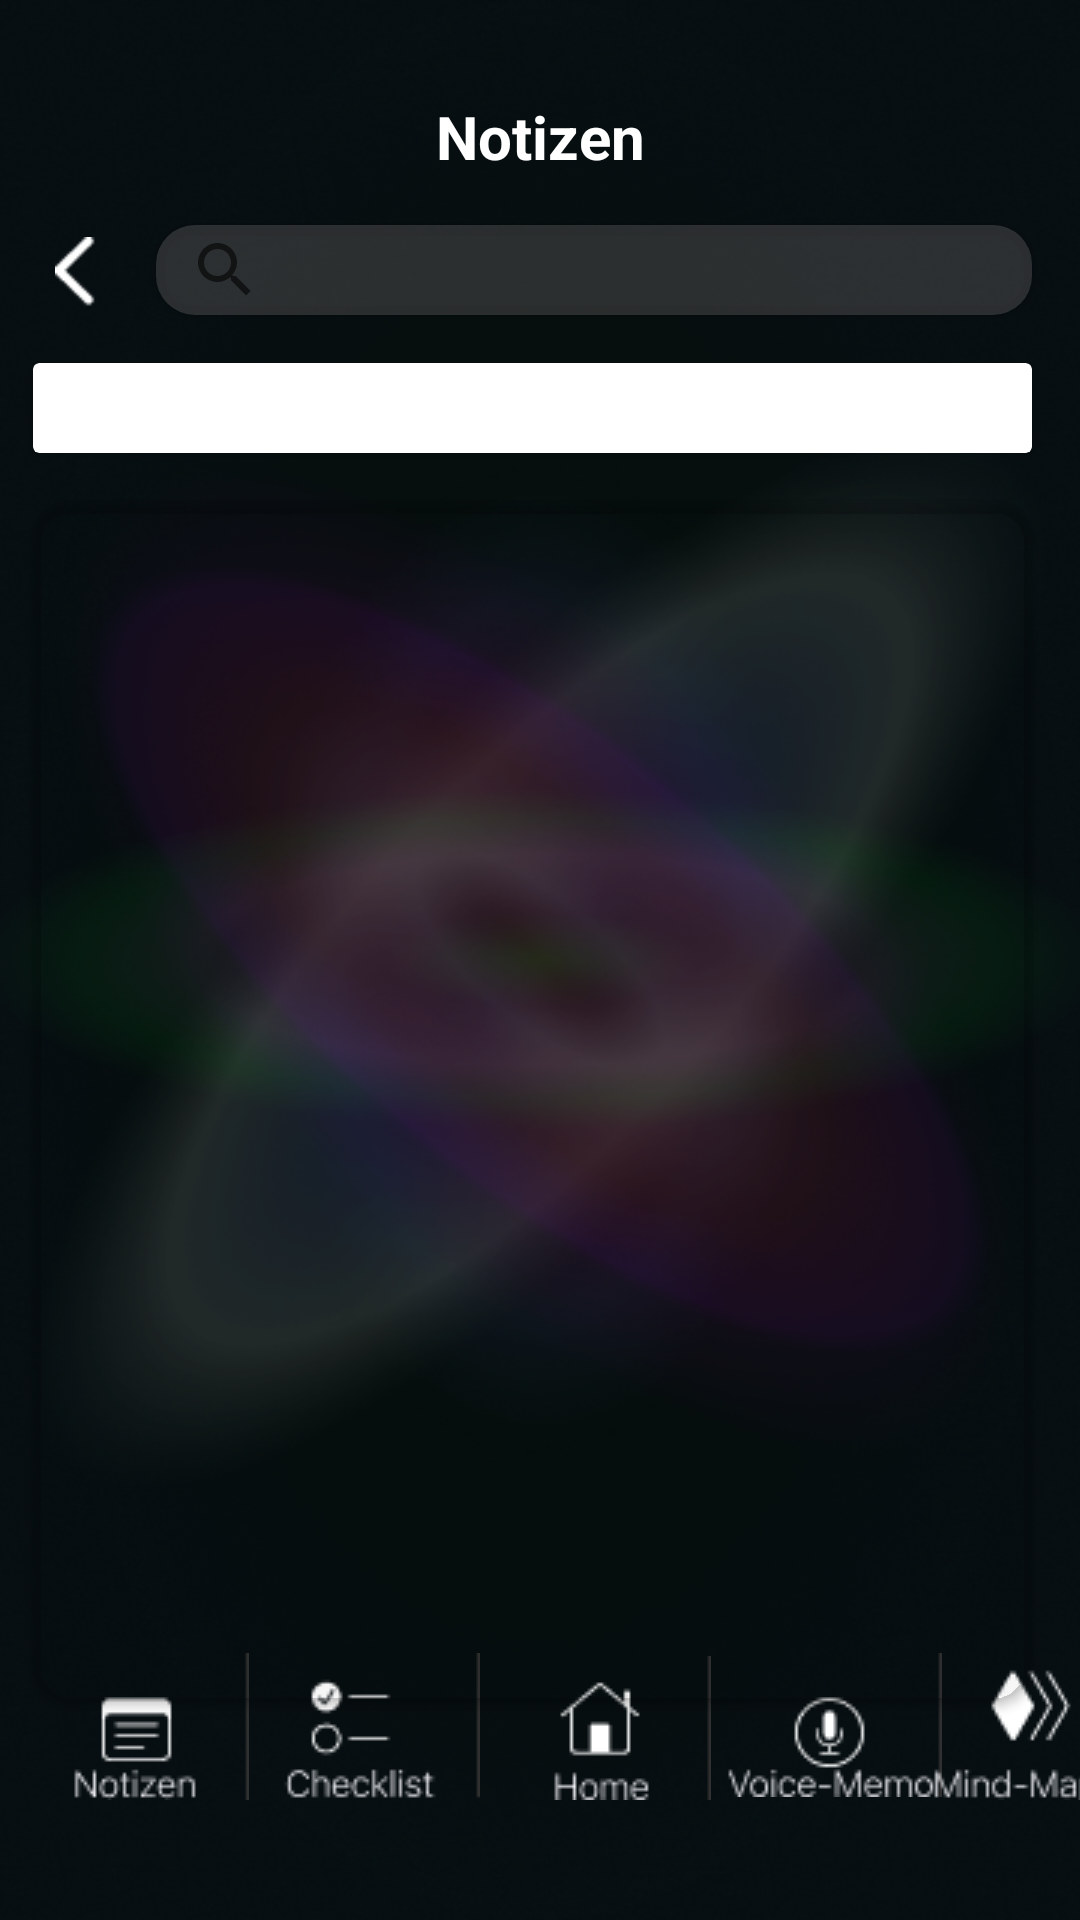

Point at icon controls on the screen. Image size 1080x1920, points as (x=x, y=y).
backbutton: (x=75, y=271)
